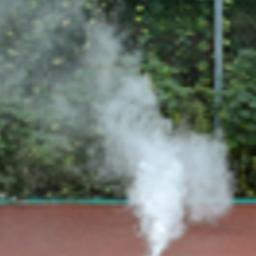smoke: (0, 0, 238, 256)
